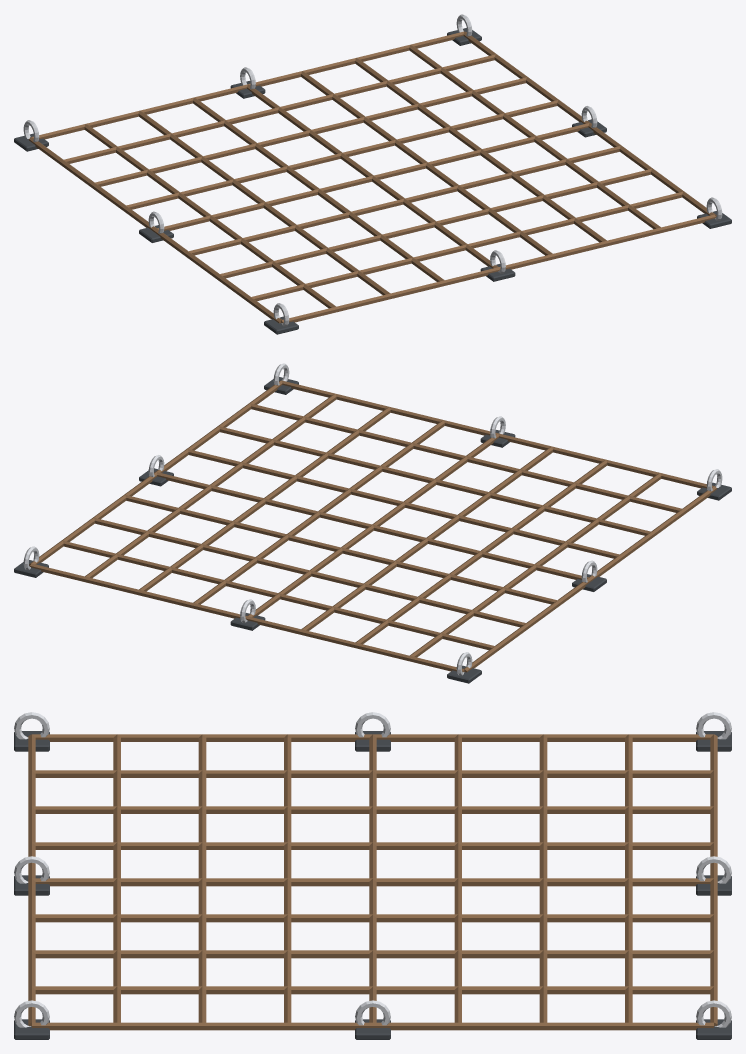
Rendered from cargo_net.glb.
The picture shows the model from 3 angles, top to bottom: view 1: azimuth 30°, elevation 25°; view 2: azimuth 150°, elevation 25°; view 3: azimuth 270°, elevation 25°; orthographic projection. The views are drawn at different scales.
Visible parts, largest first — view 1: cargo_net; view 2: cargo_net; view 3: cargo_net.
Boxes of the visible parts, <box> form: cargo_net: <box>14,14,731,334</box>; cargo_net: <box>14,363,731,683</box>; cargo_net: <box>14,712,731,1039</box>.
Size of the model in its own units: 2 by 0.1 by 2.
